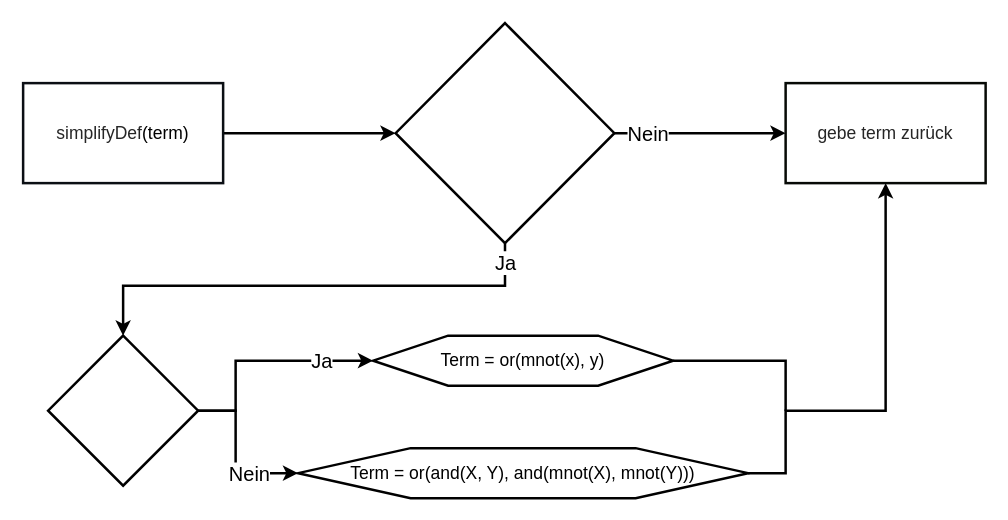
Image size: 1008x520. Some labels were removed from this diagram. The shapes that lost their labels are listed below. From the top down, each one's box as (x1, y1, x2, y2) in pixels, then its label:
(394, 21, 615, 244): term hat Form impl(x,y) || term hat Form aequiv(x,y)
(46, 334, 199, 486): term hat Form impl(x,y)
